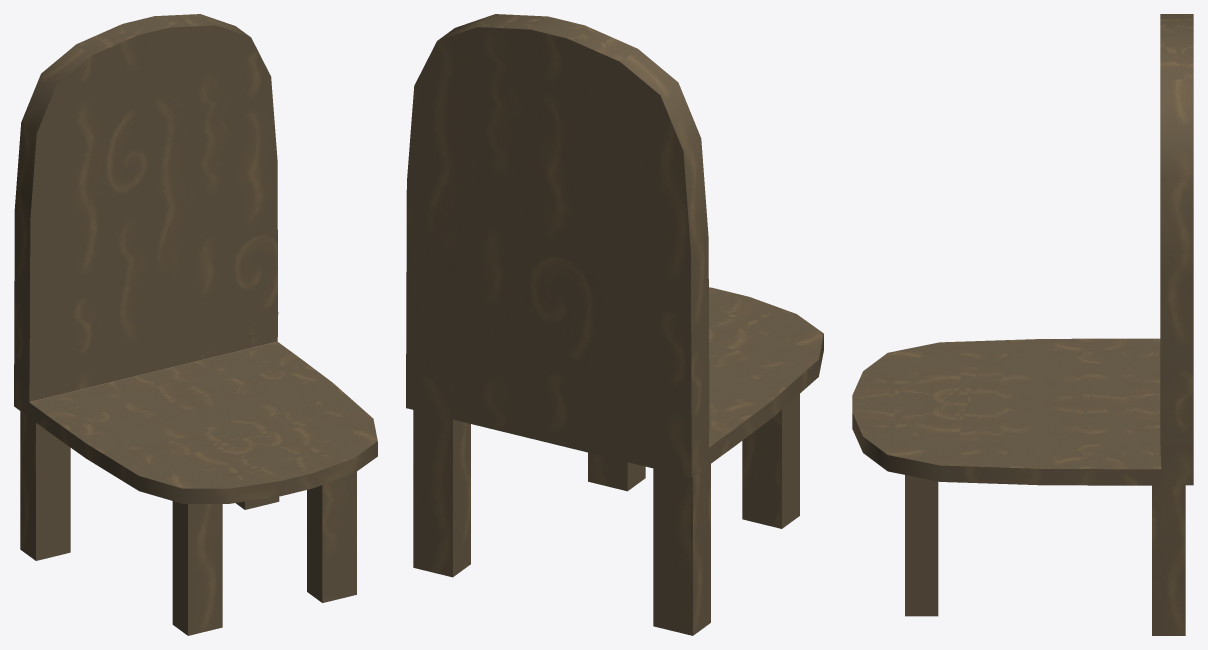
The model's file is simple_chair.fbx.
The picture shows the model from 3 angles, left to right: view 1: azimuth 30°, elevation 25°; view 2: azimuth 150°, elevation 25°; view 3: azimuth 270°, elevation 25°; orthographic projection. The views are drawn at different scales.
Visible parts, largest first — view 1: simple_chair; view 2: simple_chair; view 3: simple_chair.
Part boxes in pixels (x1,y1,x2,y2): simple_chair: [14, 14, 377, 635]; simple_chair: [406, 14, 823, 635]; simple_chair: [852, 14, 1193, 635].
Bounding box in the file's own units: 200 × 382 × 221.
